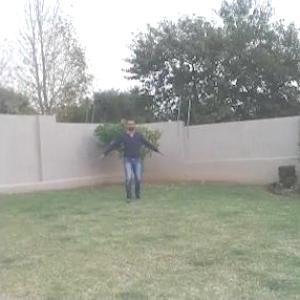land: (92, 110, 160, 204)
